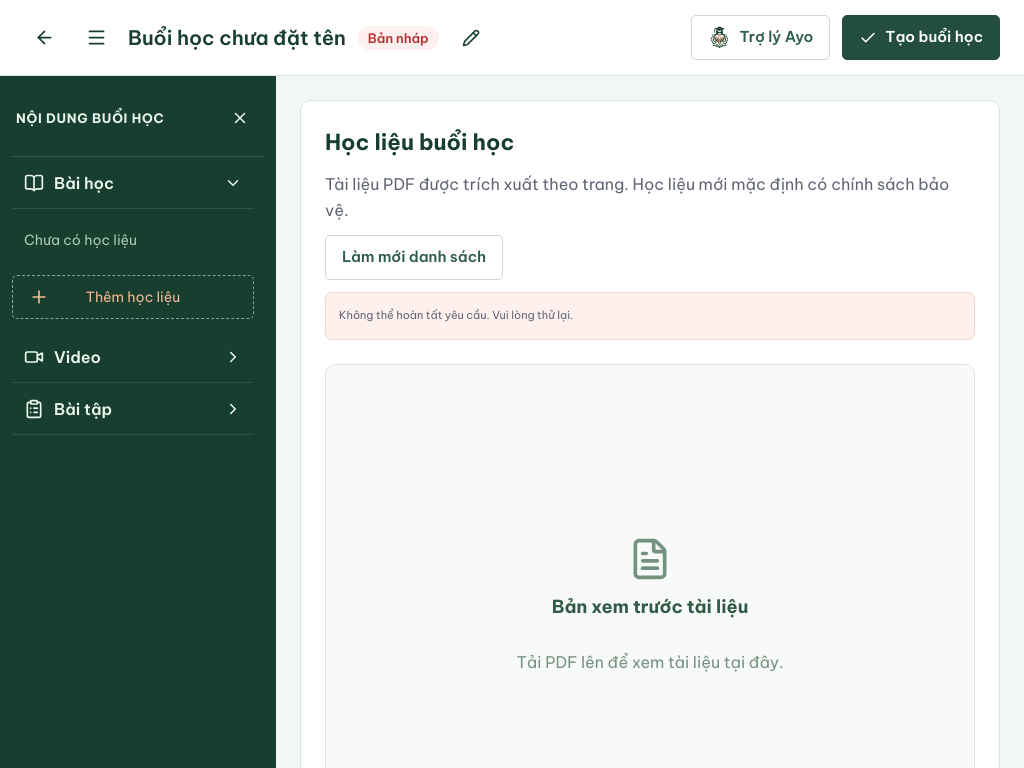
keeps sidebar content mounted but inaccessible while collapsed and restores it on opening
Click the button "Thêm học liệu" at [133, 297], box x1=12 y1=275 x2=254 y2=319
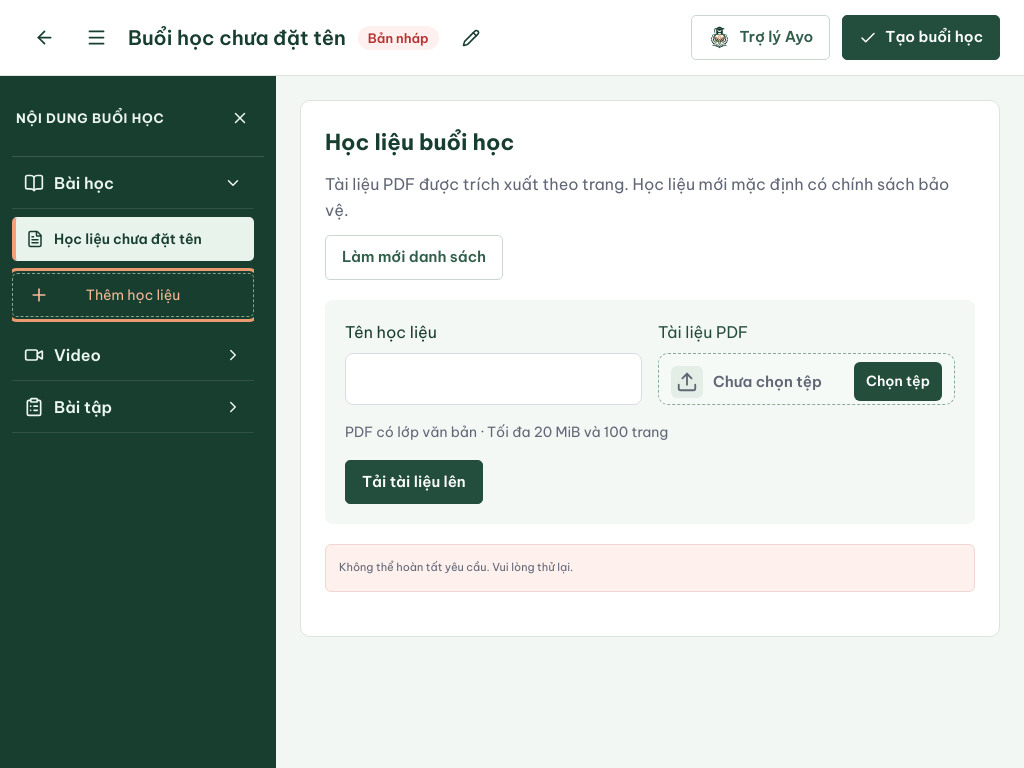
Click the button named "Đóng thanh nội dung" at [240, 118], box x1=220 y1=98 x2=260 y2=138
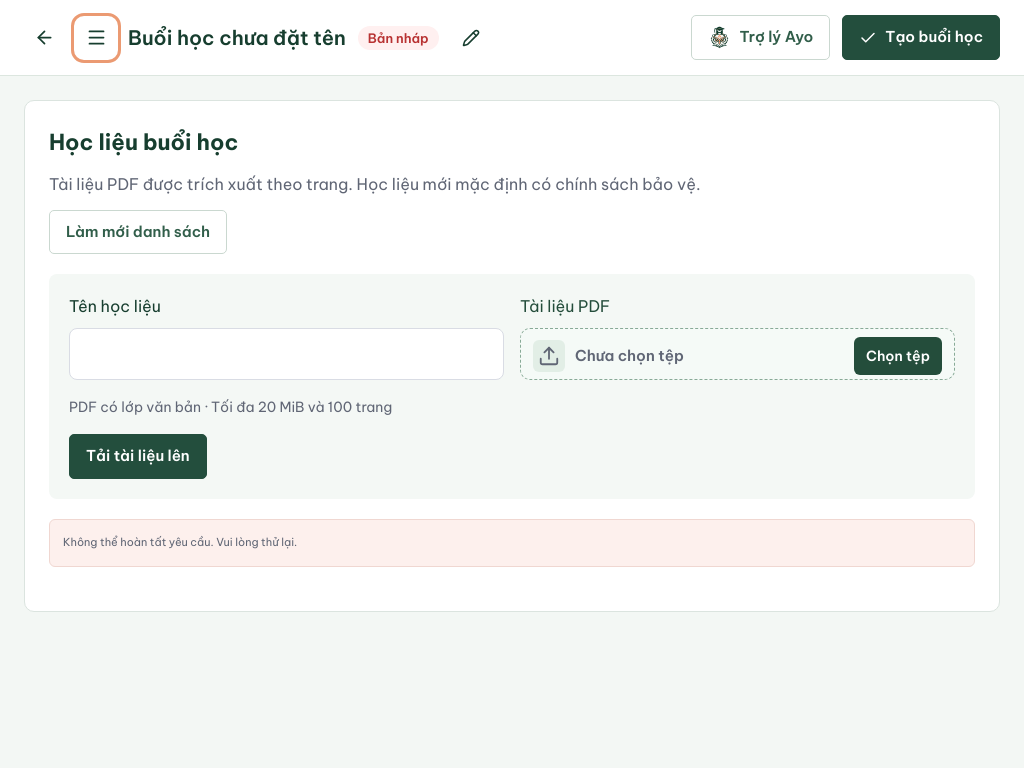
Now the text "NỘI DUNG BUỔI HỌC" is gone
Click the button named "Ẩn hiện nội dung buổi học" at [96, 38], box x1=76 y1=18 x2=116 y2=58
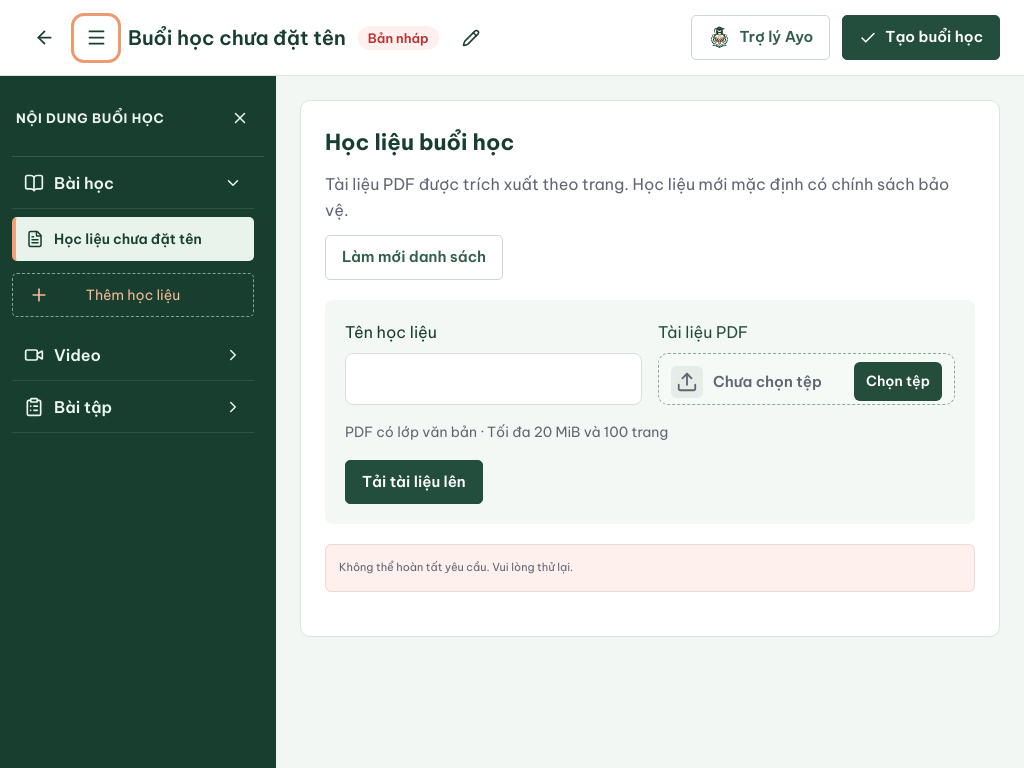
Now the button "Học liệu chưa đặt tên" is shown, box x1=12 y1=217 x2=254 y2=261
